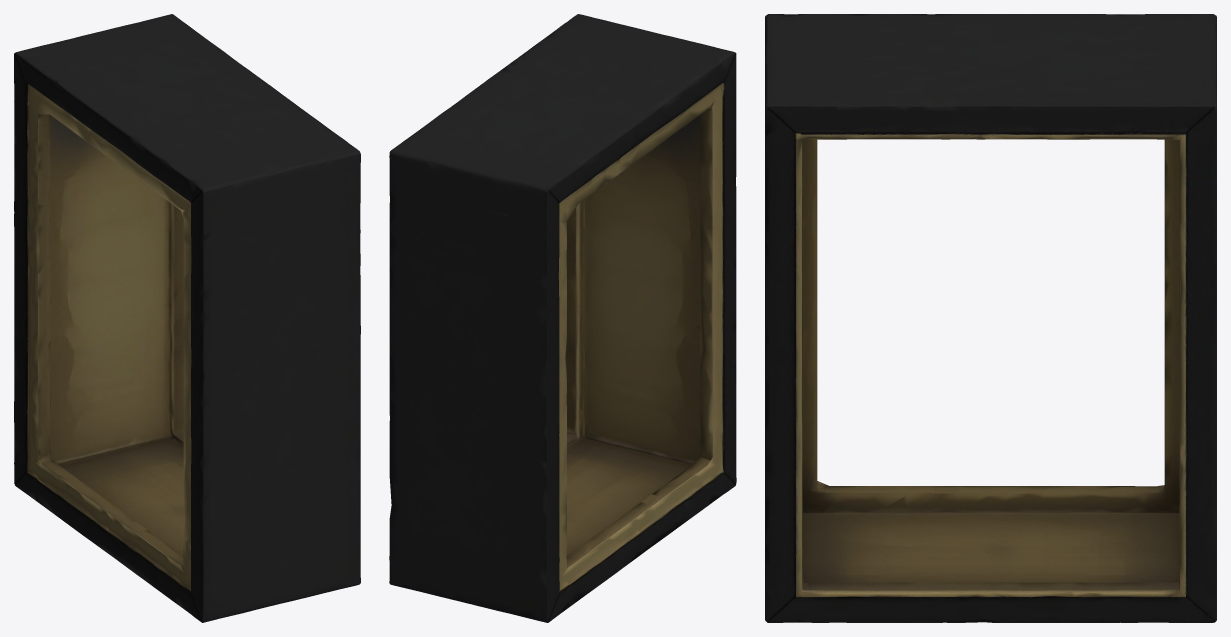
The model's file is picture+frame+3d+model+1k.glb.
3 renders of one model, left to right at view 1: azimuth 30°, elevation 25°; view 2: azimuth 150°, elevation 25°; view 3: azimuth 270°, elevation 25°, orthographic. The views are drawn at different scales.
Visible parts, largest first — view 1: tripo_node_24b80fe3-624d-42f6-a8bd-c49da34b4fe4; view 2: tripo_node_24b80fe3-624d-42f6-a8bd-c49da34b4fe4; view 3: tripo_node_24b80fe3-624d-42f6-a8bd-c49da34b4fe4.
Part boxes in pixels (x1,y1,x2,y2): tripo_node_24b80fe3-624d-42f6-a8bd-c49da34b4fe4: [14, 14, 360, 622]; tripo_node_24b80fe3-624d-42f6-a8bd-c49da34b4fe4: [389, 14, 736, 622]; tripo_node_24b80fe3-624d-42f6-a8bd-c49da34b4fe4: [765, 14, 1216, 622].
Bounding box in the file's own units: 0.3883 × 1 × 0.7908.
1 material, 1 textured.
